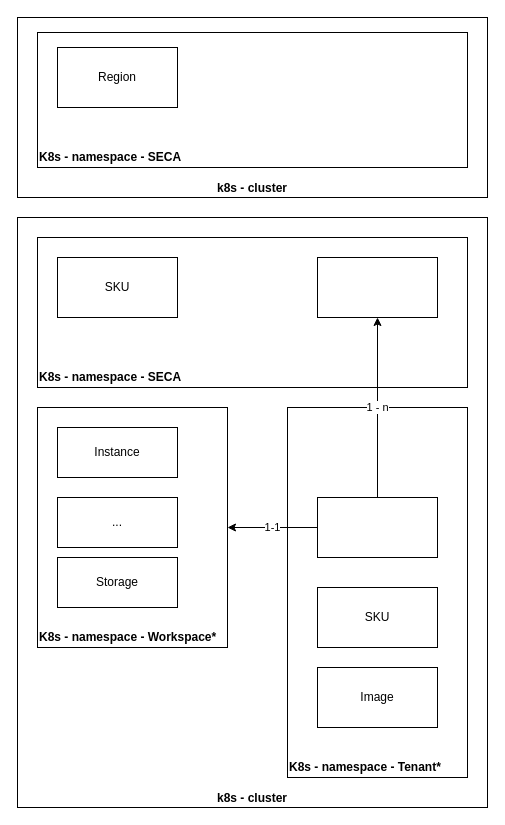
This 505x825 diagram has some shape labels left out. The shapes that lost their labels are listed below. From the top down, each one's centre as x and y in pixels, then its label:
At point (377, 287): "Tenant".
At point (377, 527): "Workspace".
